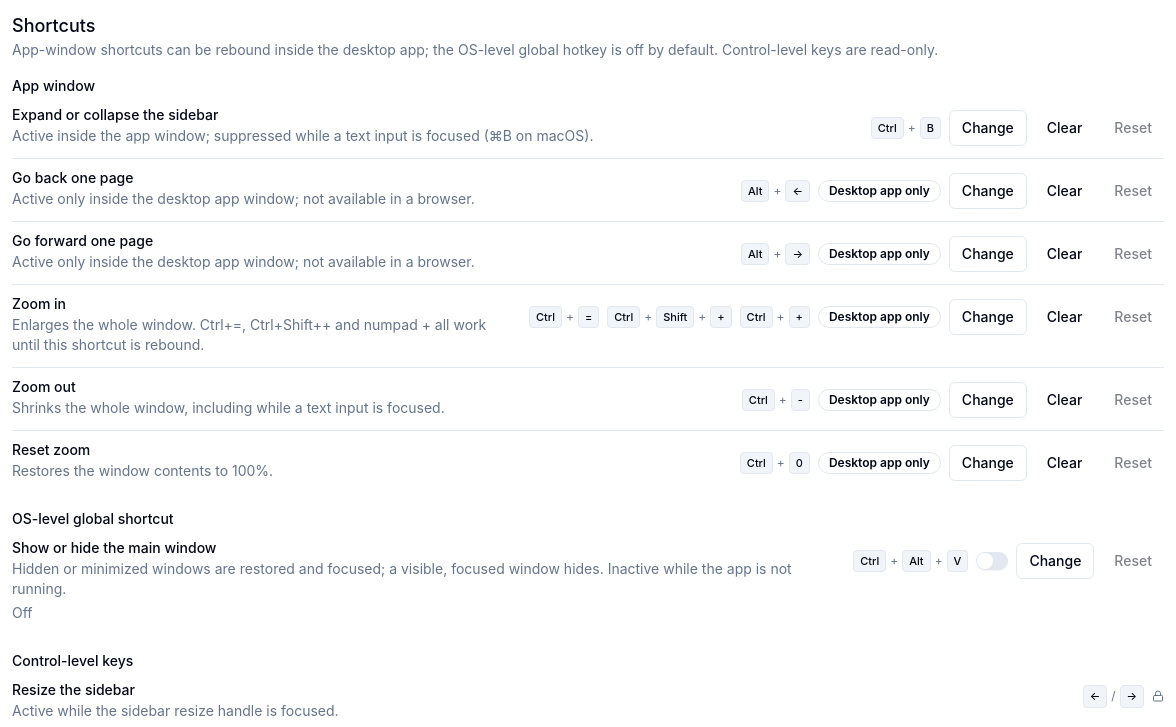
Scenario: ShortcutsSettings — desktop bridge surface › reports an occupied combo honestly instead of pretending success
What coordinates should you click on to do the following:
click the switch with test id "shortcut-global-toggle"
I would click on:
 (992, 561)
Its box is x1=976 y1=552 x2=1008 y2=570.
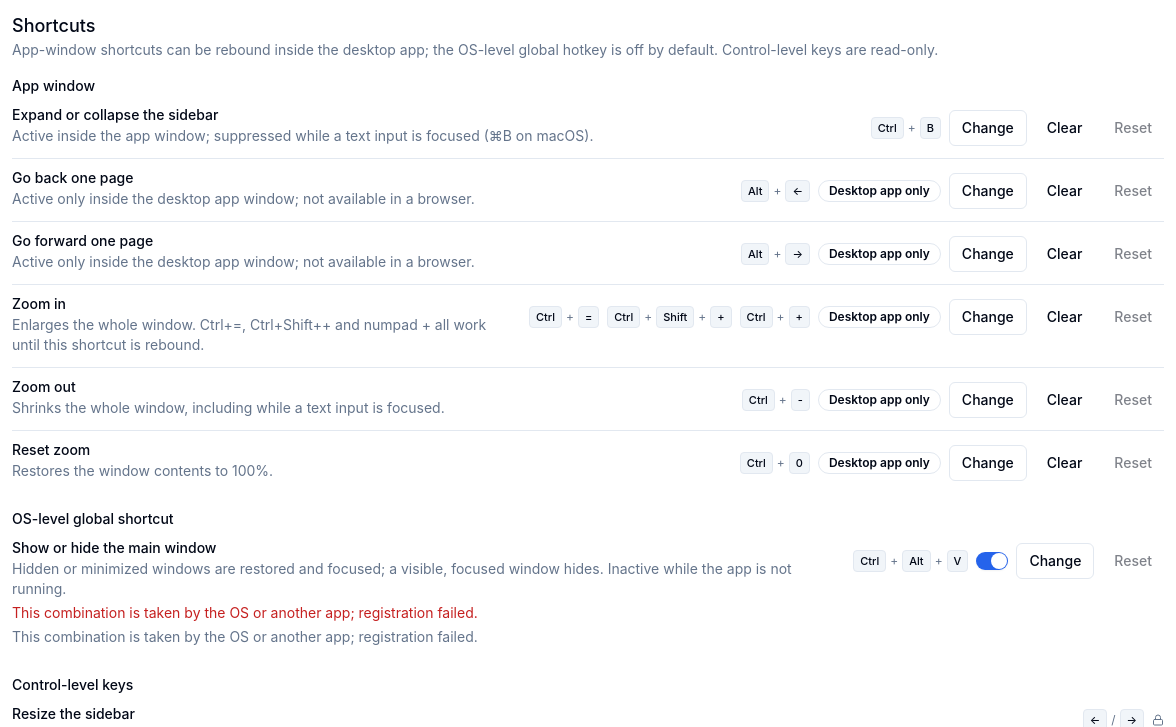
expect the text with test id "shortcut-error-toggleWindow" shows "taken by the OS": met, box x1=12 y1=604 x2=478 y2=621
expect the text with test id "shortcut-global-status" shows "taken by the OS": met, box x1=12 y1=628 x2=478 y2=645
